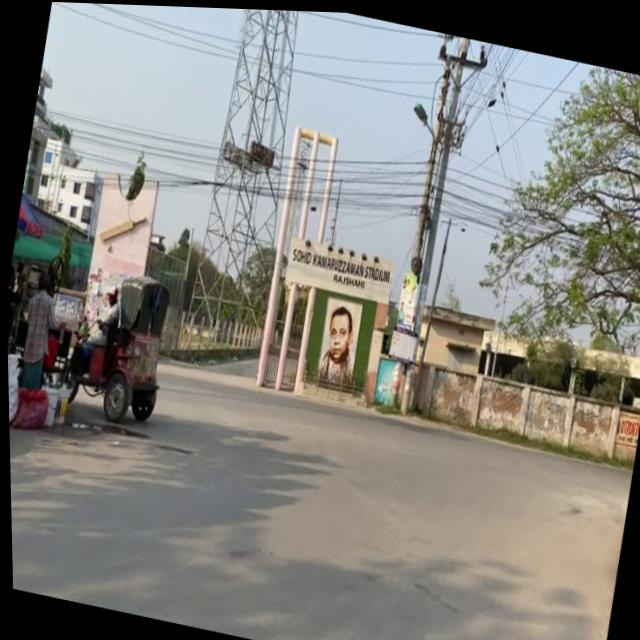Construction-barrier: (154, 354, 631, 469), (165, 326, 257, 376)
Fallen-tree: (56, 311, 168, 431)
Garbage: (260, 229, 399, 408)
Garbage-bin: (313, 299, 361, 382)
Traffic-light: (407, 356, 640, 460)
